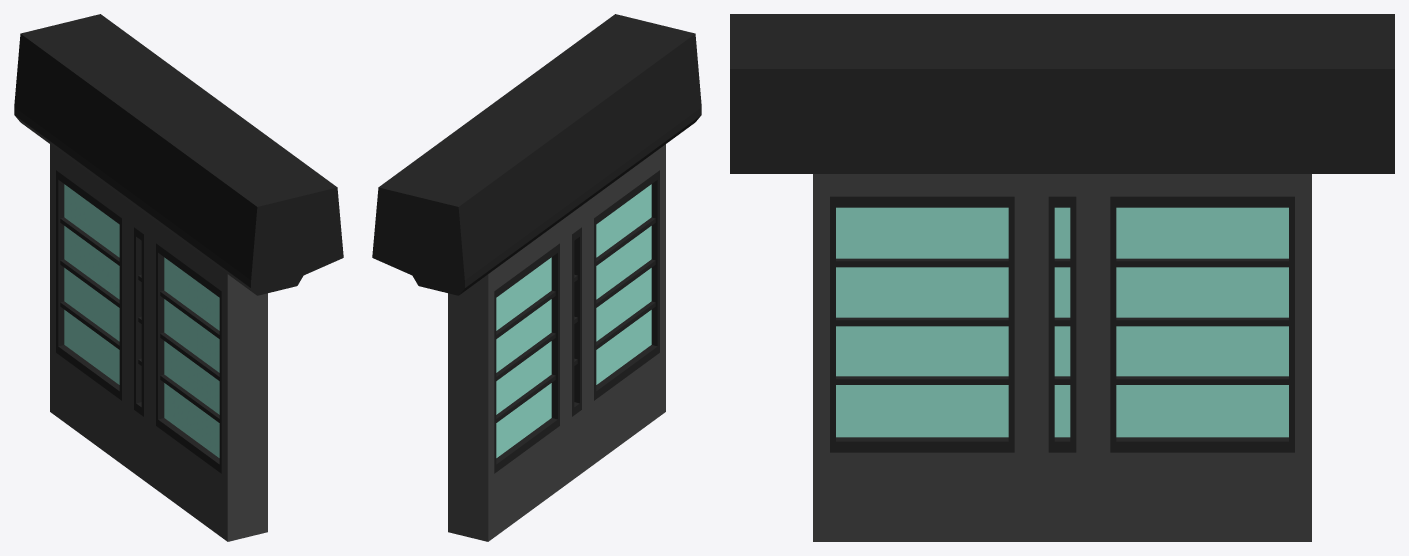
File: Warehouse Window.fbx
The picture shows the model from 3 angles, left to right: view 1: azimuth 30°, elevation 25°; view 2: azimuth 150°, elevation 25°; view 3: azimuth 270°, elevation 25°; orthographic projection. The views are drawn at different scales.
Parts seen in each view (by area): view 1: Warehouse Window; view 2: Warehouse Window; view 3: Warehouse Window.
Part boxes in pixels (box(x1,y1,x2,y2)): Warehouse Window: box(14, 14, 343, 541); Warehouse Window: box(372, 14, 701, 541); Warehouse Window: box(730, 14, 1394, 541).
Bounding box in the file's own units: 2047 × 462 × 1700.
